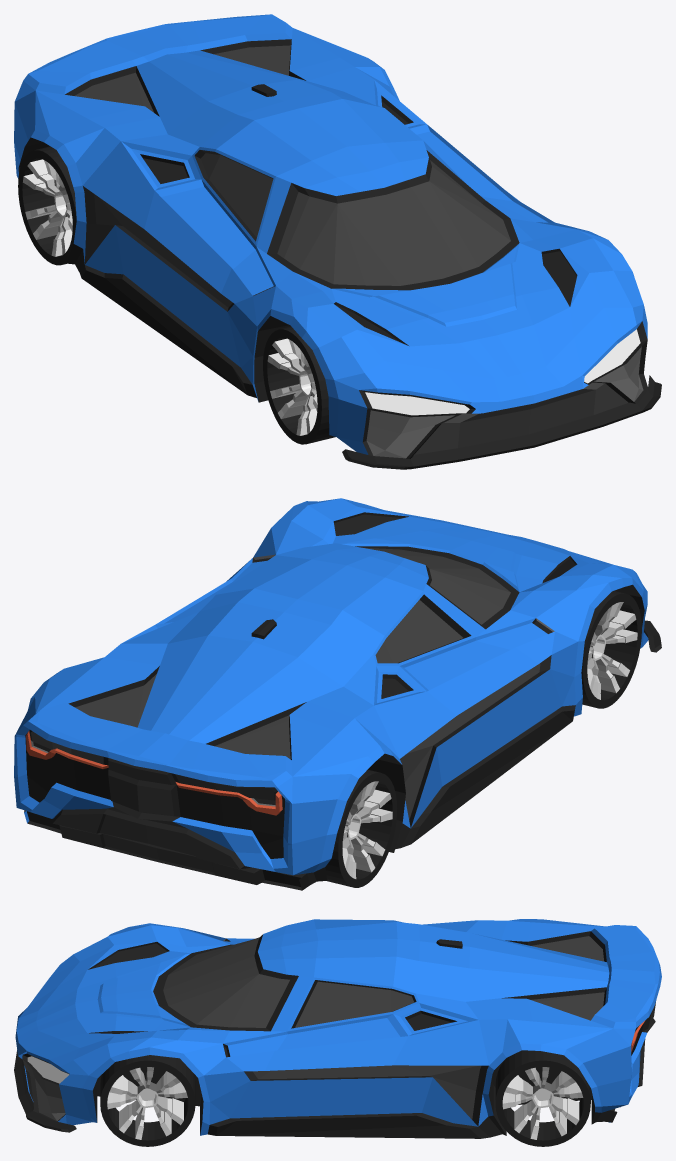
The model's file is nioep9.fbx.
The picture shows the model from 3 angles, top to bottom: view 1: azimuth 30°, elevation 25°; view 2: azimuth 150°, elevation 25°; view 3: azimuth 270°, elevation 25°; orthographic projection. The views are drawn at different scales.
Parts seen in each view (by area): view 1: BlueBody, FrontRight, BackRight; view 2: BlueBody, BackRight, FrontRight; view 3: BlueBody, BackLeft, FrontLeft.
Part boxes in pixels (left/top/right/bottom): BlueBody: left=14, top=14, right=661, bottom=469; FrontRight: left=263, top=326, right=335, bottom=444; BackRight: left=18, top=146, right=76, bottom=265; BlueBody: left=14, top=498, right=661, bottom=890; BackRight: left=325, top=769, right=397, bottom=887; FrontRight: left=581, top=591, right=641, bottom=708; BlueBody: left=14, top=919, right=661, bottom=1138; BackLeft: left=495, top=1050, right=590, bottom=1146; FrontLeft: left=100, top=1055, right=195, bottom=1146.
Size of the model in its own units: 2.32 by 4.81 by 1.19.
